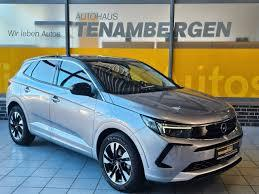opel: (217, 122, 229, 135)
